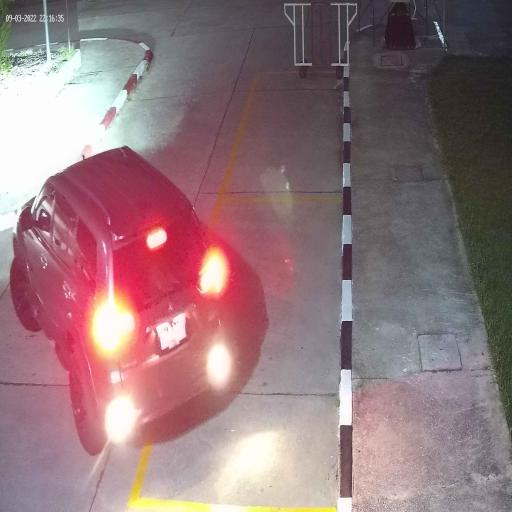car: (9, 143, 233, 458)
